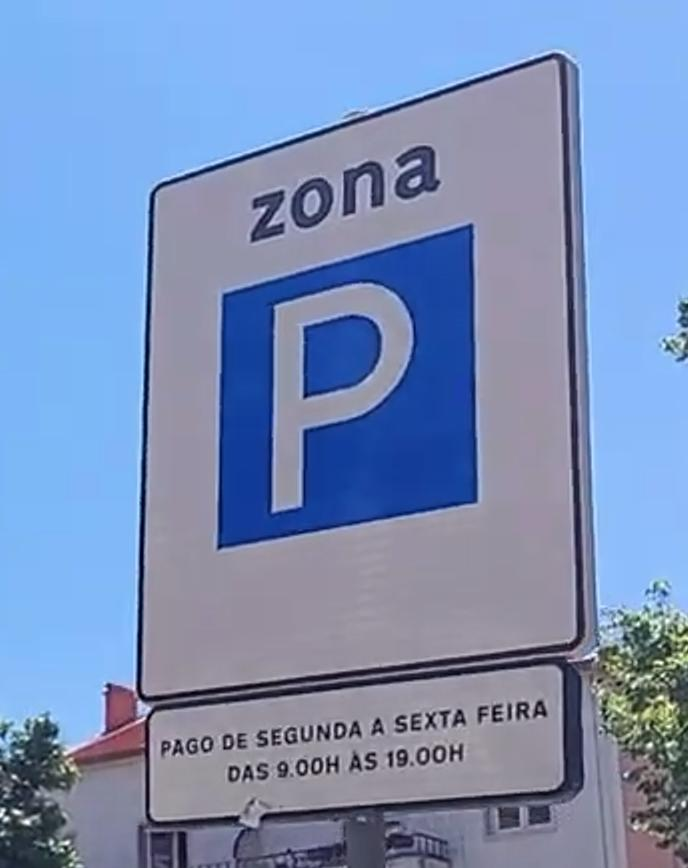zona de estacionamento autorizado: (114, 51, 603, 711)
